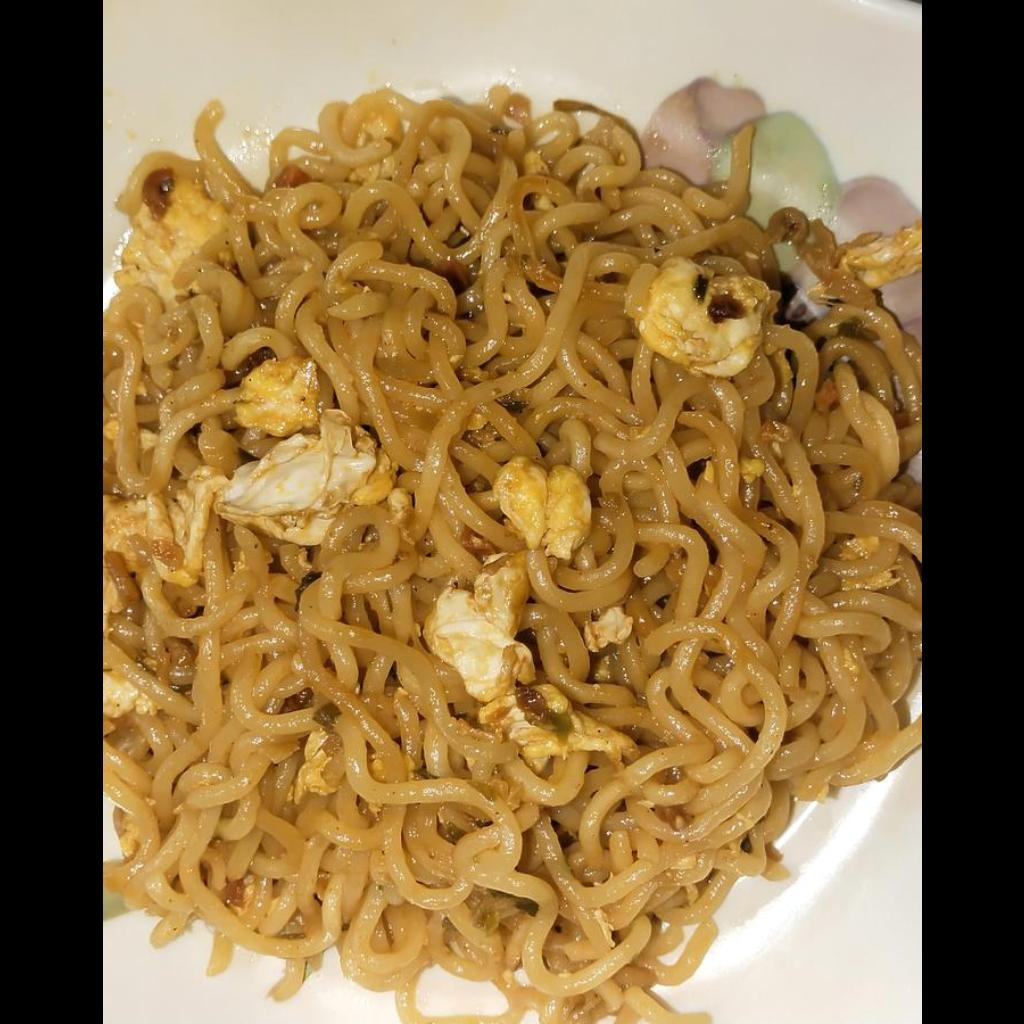noodles: (102, 89, 920, 1023)
